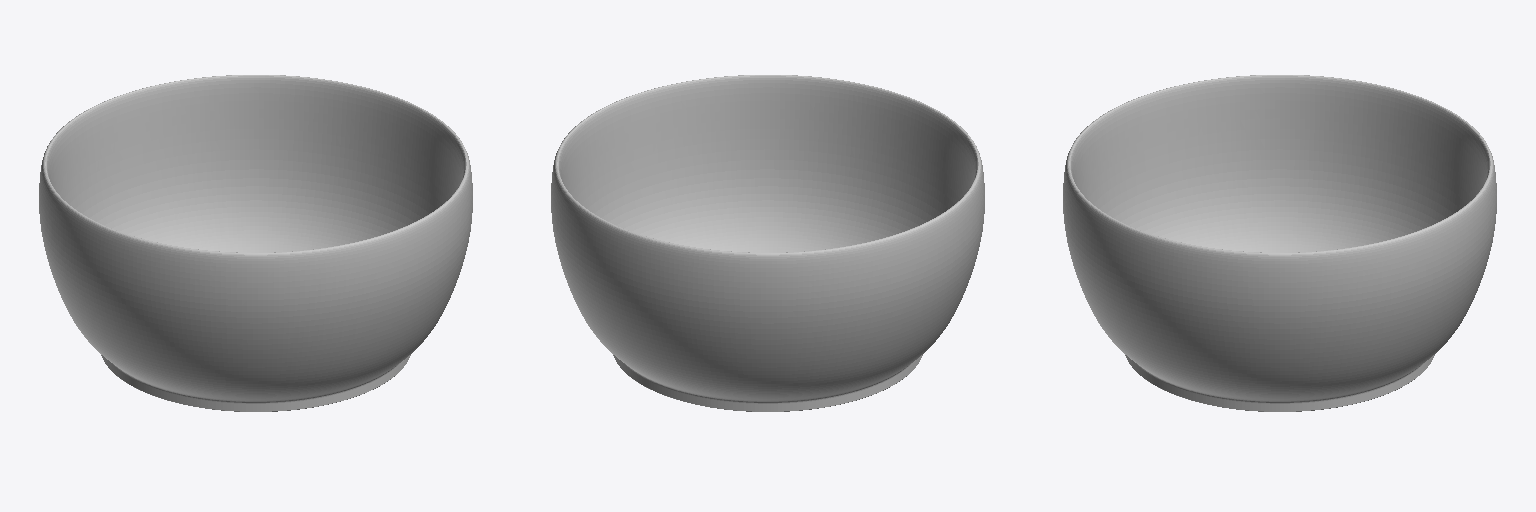
The model's file is Bowl.obj.
3 renders of one model, left to right at view 1: azimuth 30°, elevation 25°; view 2: azimuth 150°, elevation 25°; view 3: azimuth 270°, elevation 25°, orthographic.
Parts seen in each view (by area): view 1: Bowl_Circle.002; view 2: Bowl_Circle.002; view 3: Bowl_Circle.002.
Boxes of the visible parts, <box> form: Bowl_Circle.002: <box>39,75,472,411</box>; Bowl_Circle.002: <box>551,75,984,411</box>; Bowl_Circle.002: <box>1063,75,1496,411</box>.
Bounding box in the file's own units: 0.2068 × 0.0968 × 0.2068.